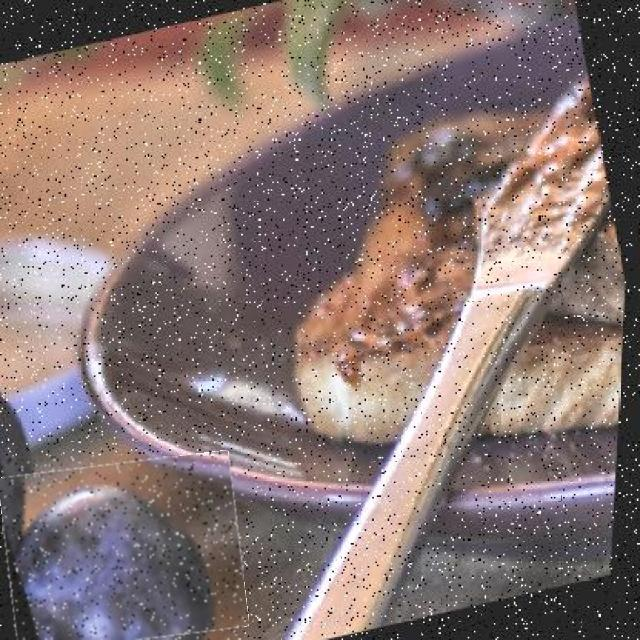plum: (2, 456, 244, 640)
